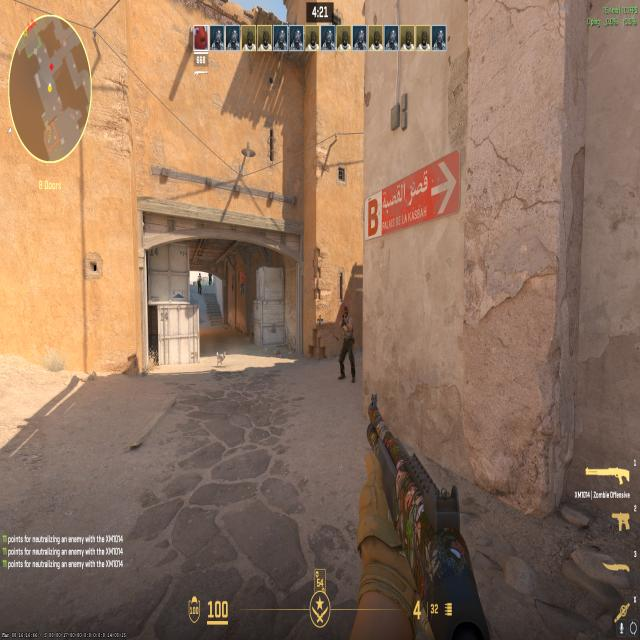ct: (207, 271, 212, 286)
t: (333, 300, 358, 381), (196, 271, 202, 292)
